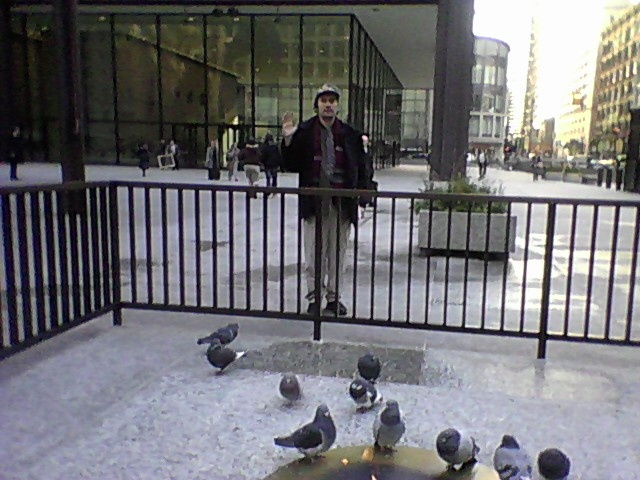Pigeon: (275, 404, 341, 463), (434, 424, 485, 474), (371, 398, 408, 456), (493, 432, 532, 480), (208, 340, 249, 378), (347, 377, 385, 412), (194, 320, 242, 345), (277, 371, 308, 408), (538, 446, 570, 480), (356, 353, 383, 386)
